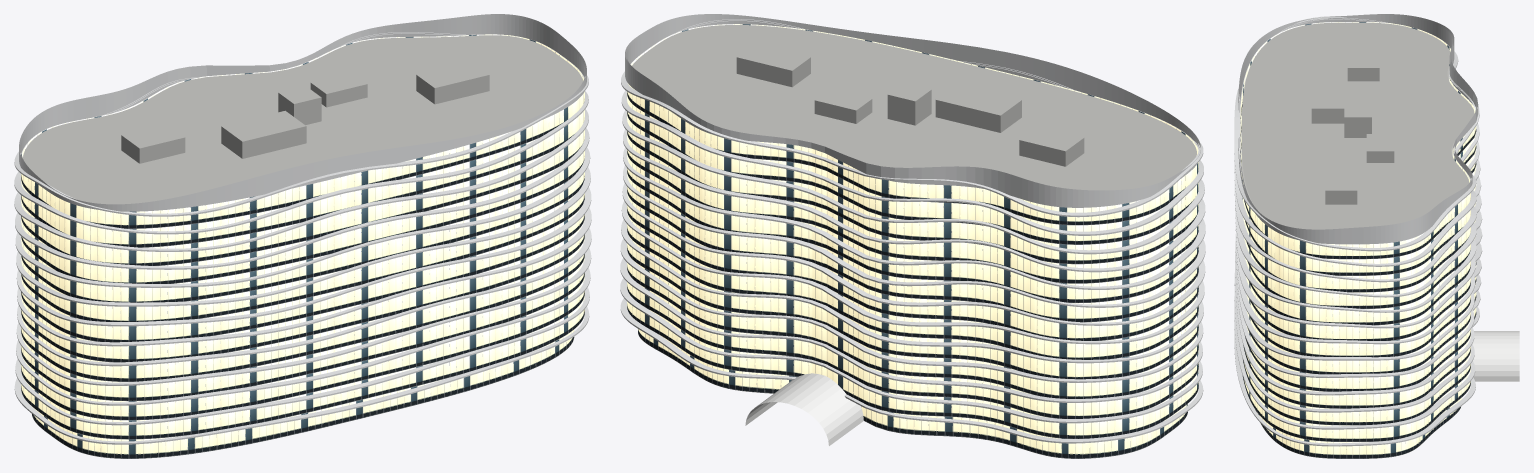
File: main.glb
The picture shows the model from 3 angles, left to right: view 1: azimuth 30°, elevation 25°; view 2: azimuth 150°, elevation 25°; view 3: azimuth 270°, elevation 25°; orthographic projection. The views are drawn at different scales.
Visible parts, largest first — view 1: Tower B roof, Tower B crown, Tower B L12 glass, Tower B L2 glass, Tower B L1 glass, Tower B L3 glass, Tower B L4 glass, Tower B L11 glass, Tower B L5 glass, Tower B L10 glass, Tower B L6 glass, Tower B L8 glass (+16 smaller); view 2: Tower B roof, Tower B crown, Tower B L5 glass, Tower B L4 glass, Tower B L6 glass, Tower B L3 glass, Tower B L12 glass, Tower B L7 glass, Tower B L2 glass, Tower B L8 glass, Tower B L9 glass, Tower B L10 glass (+17 smaller); view 3: Tower B roof, Tower B crown, Tower B L12 glass, Tower B L11 glass, Tower B L10 glass, Tower B L9 glass, Tower B L8 glass, Tower B L2 glass, Tower B L1 glass, Tower B L7 glass, Tower B L5 glass, Tower B L3 glass (+17 smaller).
Part boxes in pixels (<box>): Tower B roof: <box>23,35,582,204</box>; Tower B crown: <box>19,14,586,211</box>; Tower B L12 glass: <box>21,34,584,228</box>; Tower B L2 glass: <box>21,275,584,420</box>; Tower B L1 glass: <box>21,294,584,439</box>; Tower B L3 glass: <box>21,256,584,401</box>; Tower B L4 glass: <box>21,237,584,381</box>; Tower B L11 glass: <box>21,110,584,247</box>; Tower B L5 glass: <box>21,221,584,362</box>; Tower B L10 glass: <box>21,130,584,265</box>; Tower B L6 glass: <box>21,207,584,342</box>; Tower B L8 glass: <box>21,172,584,302</box>; Tower B roof: <box>632,25,1196,190</box>; Tower B crown: <box>625,14,1200,207</box>; Tower B L5 glass: <box>627,211,1198,359</box>; Tower B L4 glass: <box>627,235,1198,379</box>; Tower B L6 glass: <box>627,192,1198,340</box>; Tower B L3 glass: <box>627,261,1198,398</box>; Tower B L12 glass: <box>627,24,1198,225</box>; Tower B L7 glass: <box>627,172,1198,322</box>; Tower B L2 glass: <box>627,282,1198,418</box>; Tower B L8 glass: <box>627,153,1198,303</box>; Tower B L9 glass: <box>627,133,1198,283</box>; Tower B L10 glass: <box>627,114,1198,264</box>; Tower B roof: <box>1241,22,1474,229</box>; Tower B crown: <box>1238,14,1478,244</box>; Tower B L12 glass: <box>1240,22,1476,259</box>; Tower B L11 glass: <box>1240,64,1476,275</box>; Tower B L10 glass: <box>1240,129,1476,292</box>; Tower B L9 glass: <box>1240,146,1476,308</box>; Tower B L8 glass: <box>1241,163,1476,325</box>; Tower B L2 glass: <box>1243,282,1476,425</box>; Tower B L1 glass: <box>1242,308,1476,441</box>; Tower B L7 glass: <box>1245,202,1476,340</box>; Tower B L5 glass: <box>1246,237,1475,374</box>; Tower B L3 glass: <box>1243,265,1476,408</box>.
Bounding box in the file's own units: 117 × 58 × 62.3.
5 materials, 1 textured.
